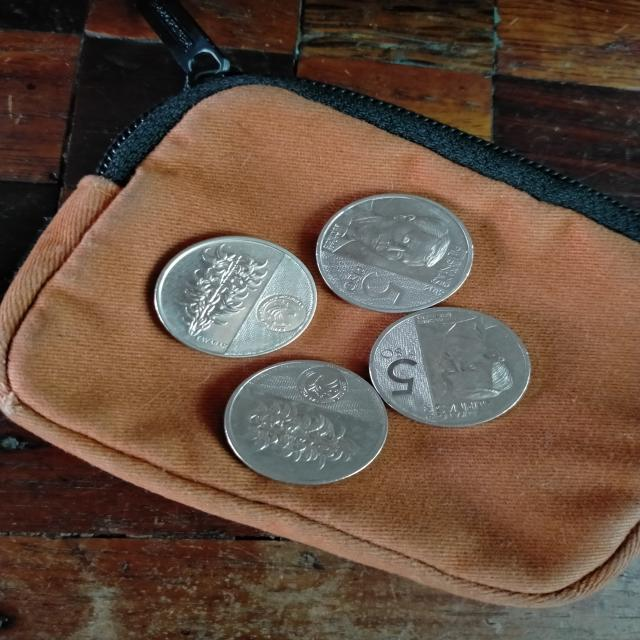5_New_Back: (232, 394, 366, 476), (172, 237, 275, 340)
5_New_Front: (363, 336, 427, 405), (336, 261, 408, 311)
